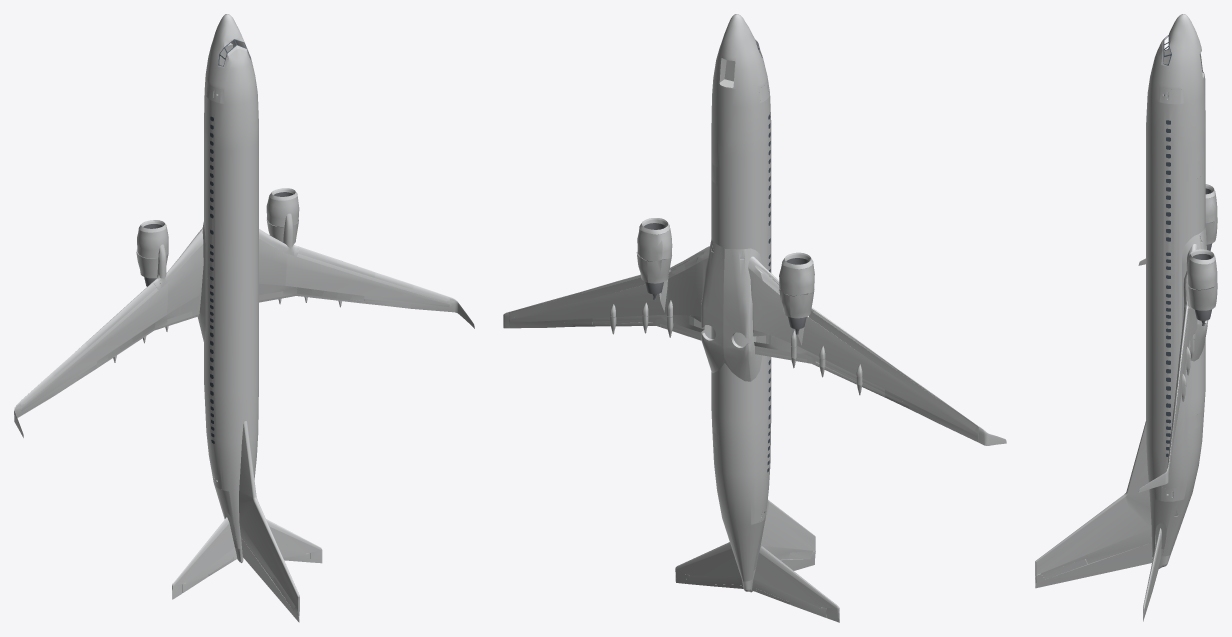
The picture shows the model from 3 angles, left to right: view 1: azimuth 30°, elevation 25°; view 2: azimuth 150°, elevation 25°; view 3: azimuth 270°, elevation 25°; orthographic projection. The views are drawn at different scales.
Visible parts, largest first — view 1: B739; view 2: B739; view 3: B739.
Boxes of the visible parts, x1=… form: B739: x1=14, y1=14, x2=474, y2=622; B739: x1=503, y1=14, x2=1006, y2=622; B739: x1=1035, y1=14, x2=1217, y2=621.
Bounding box in the file's own units: 35.74 × 42.11 × 12.13.
